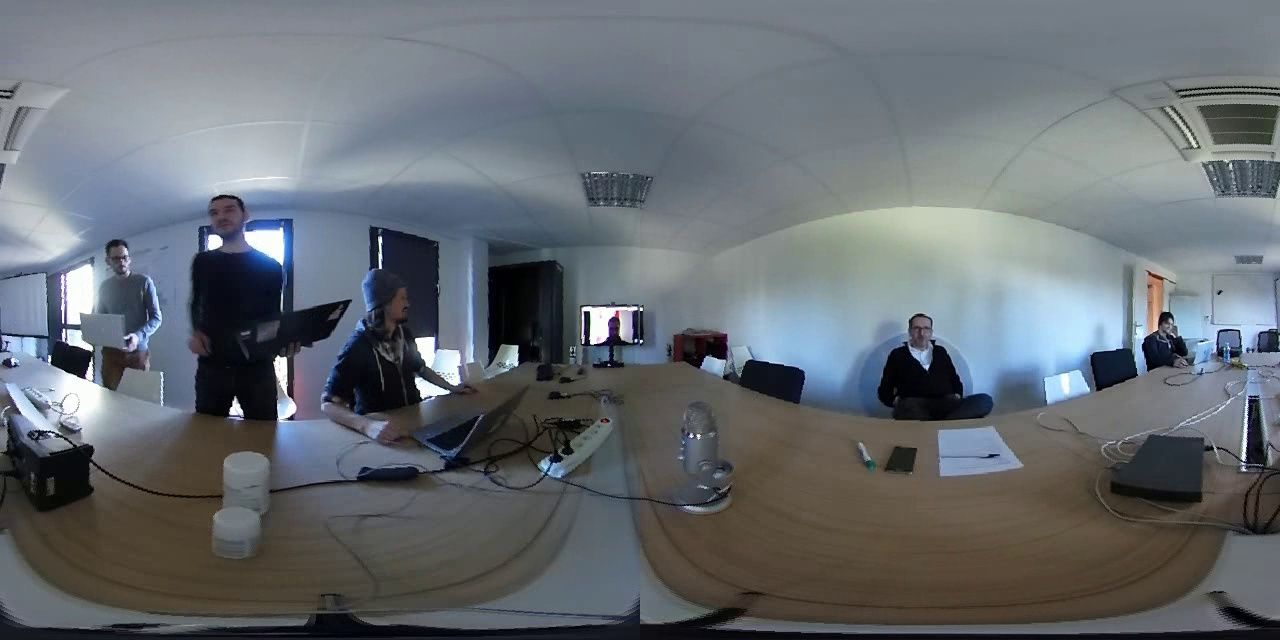person: (171, 176, 280, 368), (349, 259, 434, 413), (873, 295, 976, 418), (71, 231, 164, 365), (1141, 300, 1189, 368), (585, 304, 641, 340)
